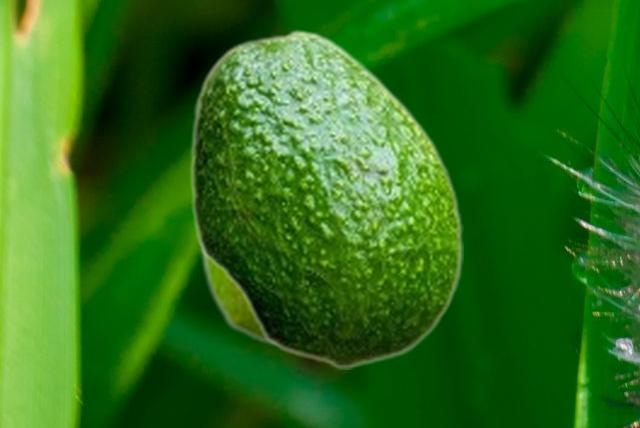avocado: (188, 28, 462, 368), (199, 248, 272, 347)
